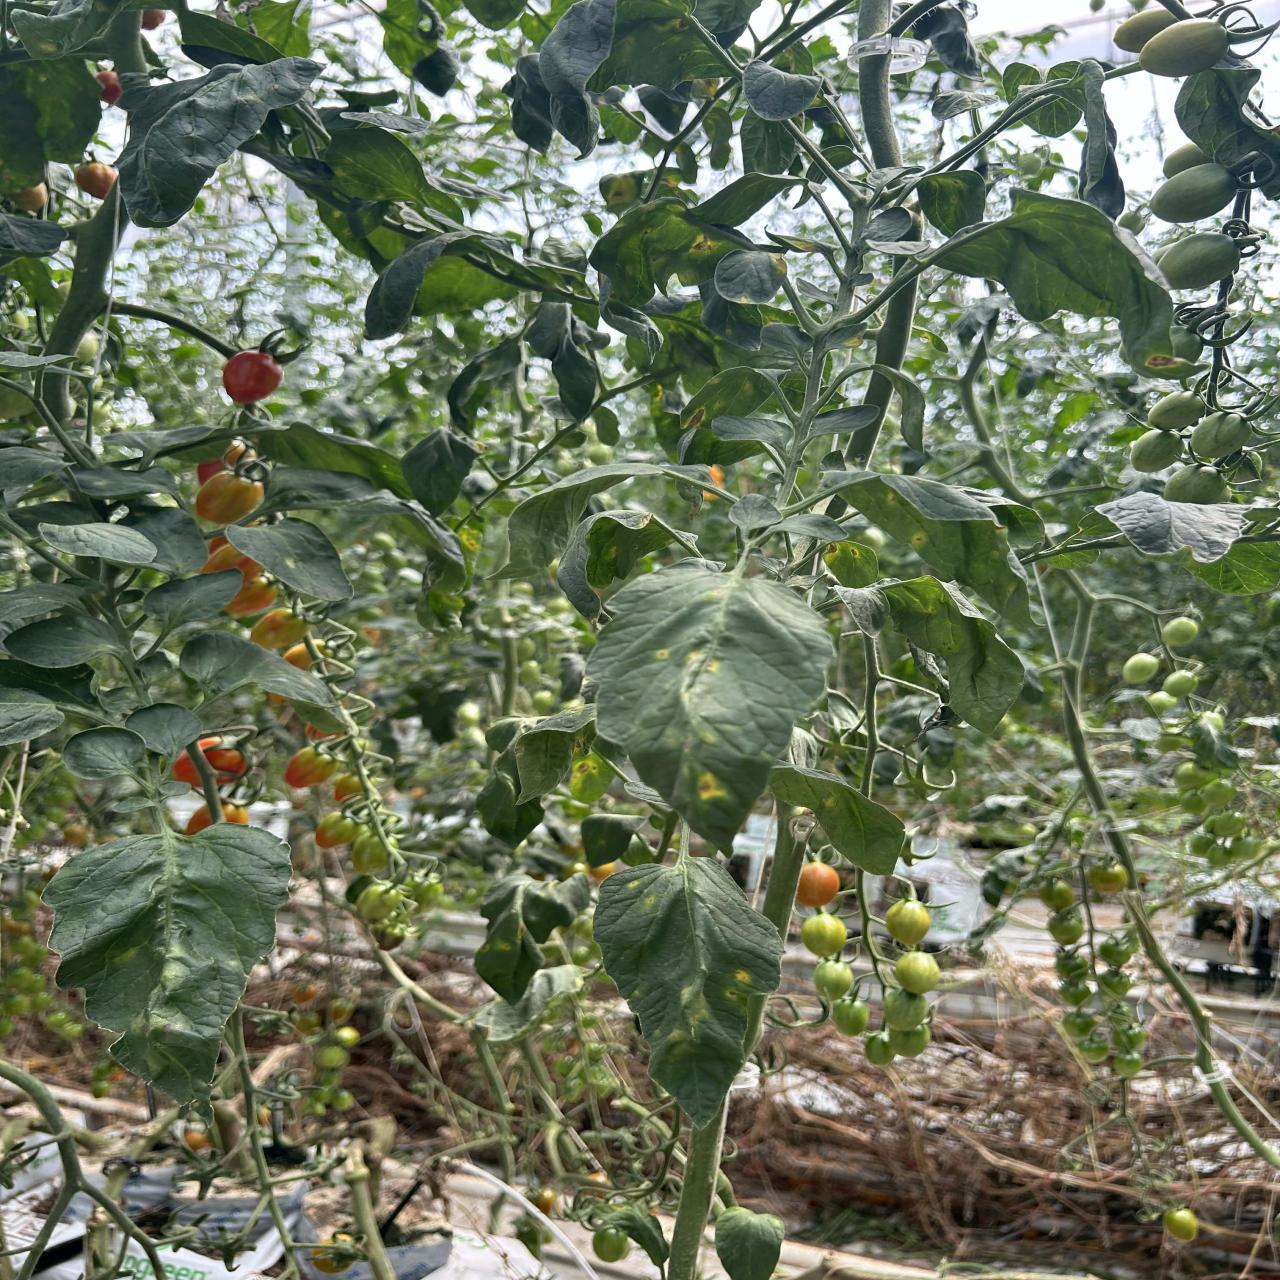Hoja: (933, 190, 1170, 360), (118, 57, 320, 227), (538, 0, 617, 155), (179, 631, 332, 703), (225, 520, 352, 600), (5, 617, 128, 668), (143, 570, 241, 629), (129, 509, 207, 574), (38, 523, 157, 565), (63, 727, 145, 779), (125, 703, 203, 758), (0, 687, 64, 745), (0, 584, 83, 624)
Hoja rugoso: (587, 565, 833, 846), (43, 824, 291, 1103), (594, 856, 782, 1128), (836, 472, 1027, 622), (591, 198, 743, 306), (476, 876, 574, 1002), (714, 250, 787, 304), (822, 539, 879, 587)
Pedunculo: (45, 178, 128, 359), (924, 81, 1069, 175), (668, 1082, 728, 1280), (111, 300, 239, 359), (858, 0, 901, 169), (762, 792, 805, 941), (782, 121, 858, 202), (845, 374, 892, 468), (876, 279, 917, 368), (35, 368, 72, 429), (842, 233, 857, 257), (832, 220, 839, 236)
Tomate: (1150, 162, 1235, 223), (1139, 20, 1228, 77), (1153, 233, 1240, 290), (1191, 411, 1251, 459), (1114, 8, 1176, 53), (1163, 464, 1231, 504), (198, 737, 248, 785), (1131, 428, 1184, 474), (1148, 392, 1205, 430), (886, 900, 931, 947), (801, 912, 846, 956), (894, 951, 940, 995), (796, 862, 839, 907), (884, 988, 928, 1030), (1163, 143, 1211, 178), (813, 960, 853, 1001), (831, 998, 869, 1036), (1122, 652, 1160, 686), (890, 1026, 930, 1057), (1162, 617, 1199, 648), (865, 1030, 896, 1064), (1162, 670, 1198, 699), (172, 751, 200, 787)
Tomate Rugoso: (195, 471, 264, 526), (223, 350, 282, 404), (250, 608, 309, 651), (285, 747, 336, 789), (356, 881, 408, 922), (225, 579, 277, 617), (316, 811, 359, 849), (352, 836, 390, 873), (284, 639, 312, 669), (334, 774, 361, 803)
